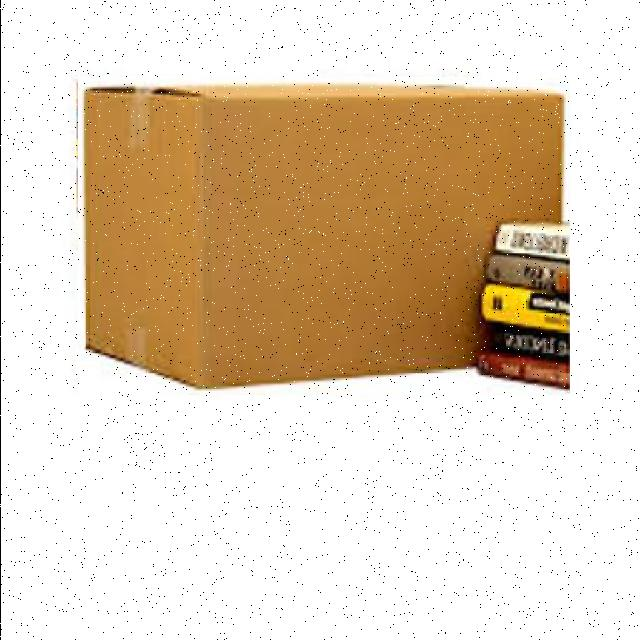normal: (77, 77, 569, 395)
